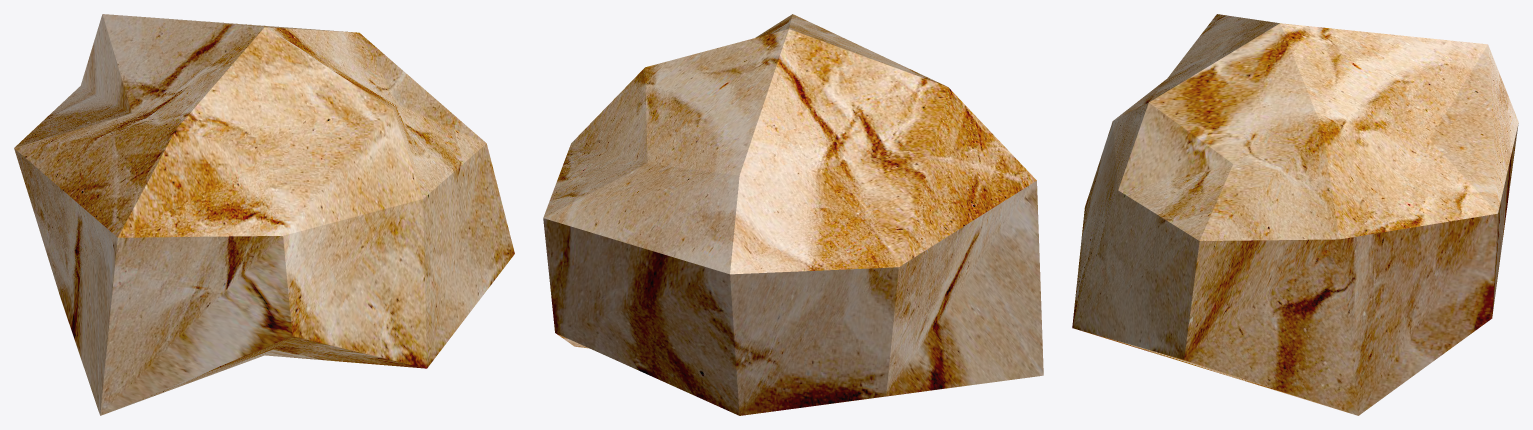
File: Paper.fbx
3 renders of one model, left to right at view 1: azimuth 30°, elevation 25°; view 2: azimuth 150°, elevation 25°; view 3: azimuth 270°, elevation 25°, orthographic. The views are drawn at different scales.
Parts seen in each view (by area): view 1: Paper; view 2: Paper; view 3: Paper.
Part boxes in pixels (<box>): Paper: <box>14,14,514,415</box>; Paper: <box>543,14,1043,415</box>; Paper: <box>1072,14,1518,415</box>.
Size of the model in its own units: 0.1317 by 0.1018 by 0.1264.
